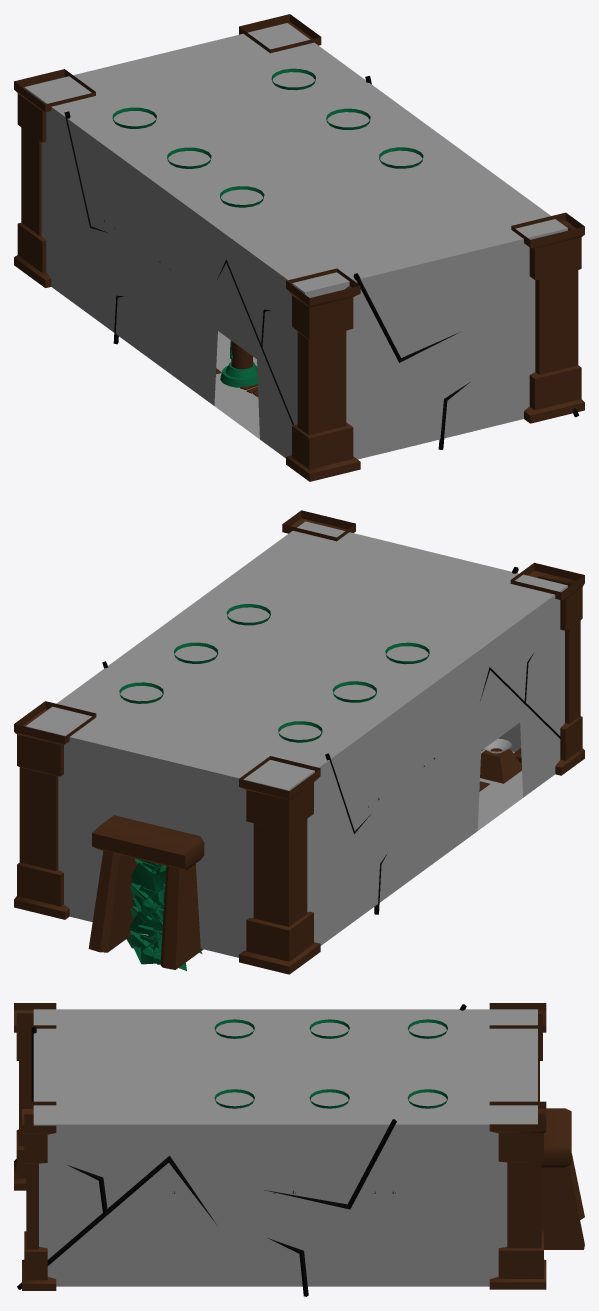
File: level02_floor01.FBX
The picture shows the model from 3 angles, top to bottom: view 1: azimuth 30°, elevation 25°; view 2: azimuth 150°, elevation 25°; view 3: azimuth 270°, elevation 25°; orthographic projection. The views are drawn at different scales.
Parts seen in each view (by area): view 1: floor01_bounds, floor01_columns; view 2: floor01_bounds, floor01_columns, floor01_altar; view 3: floor01_bounds, floor01_columns.
Part boxes in pixels (x1,y1,x2,y2): floor01_bounds: (14,14,584,481); floor01_columns: (112,68,423,396); floor01_bounds: (14,510,584,974); floor01_columns: (119,604,489,791); floor01_altar: (368,738,521,807); floor01_bounds: (14,1003,584,1296); floor01_columns: (214,1019,447,1108).
Size of the model in its own units: 1377 by 1024 by 2707.
